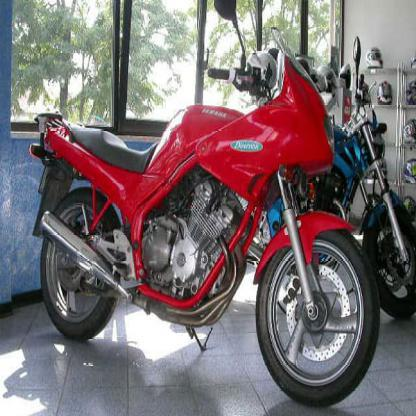Motorcycle: (36, 0, 382, 413)
